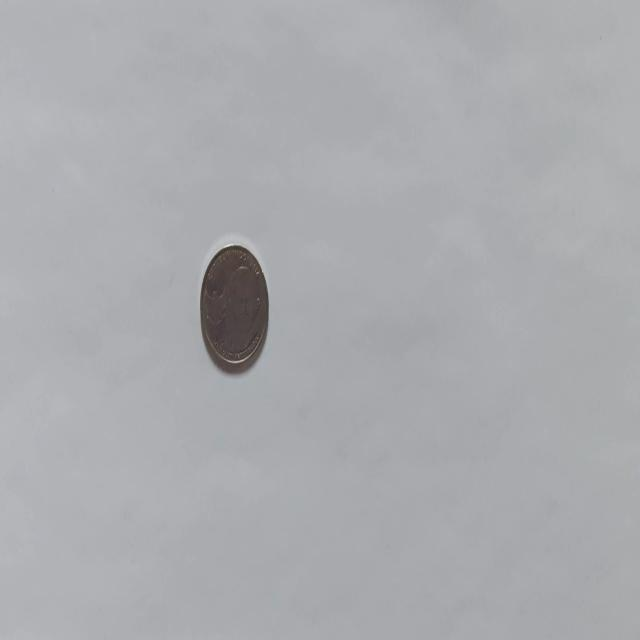seribu rupiah koin: (198, 240, 270, 372)
